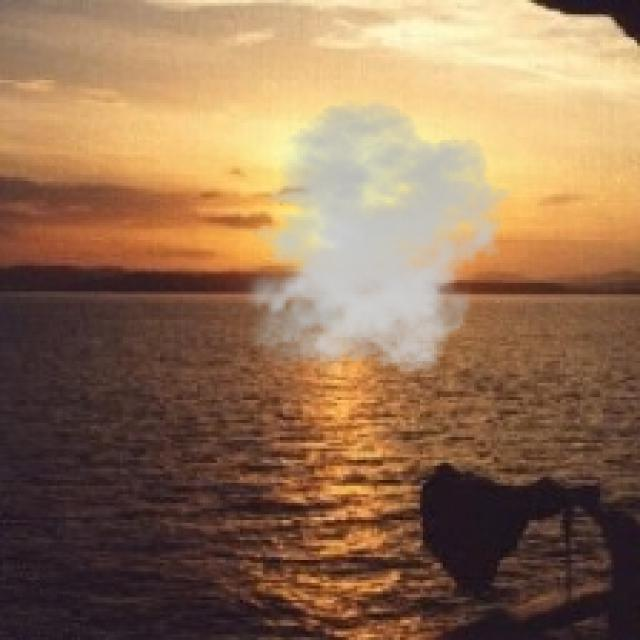Smoke: (232, 100, 512, 383)
